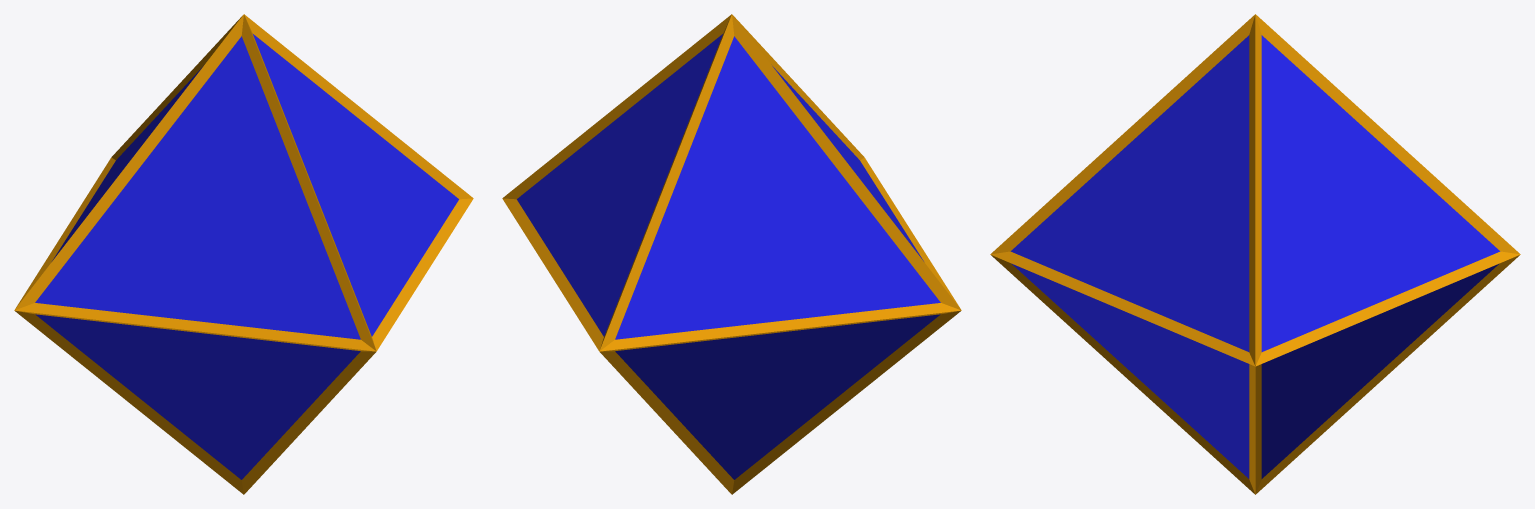
3 views of the same model, side by side, from view 1: azimuth 30°, elevation 25°; view 2: azimuth 150°, elevation 25°; view 3: azimuth 270°, elevation 25° (orthographic).
Parts seen in each view (by area): view 1: d8; view 2: d8; view 3: d8.
Boxes of the visible parts, x1,y1,x2,y2 form: d8: (14,14,473,494); d8: (502,14,961,494); d8: (990,14,1520,494).
Bounding box in the file's own units: 2.06 × 2.06 × 2.06.
